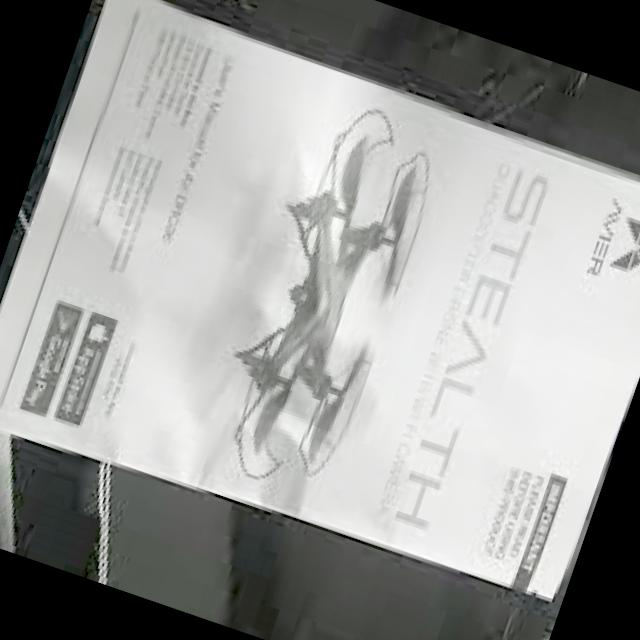drone: (182, 84, 463, 524)
